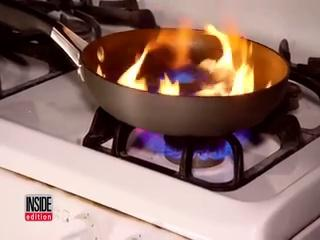Fire: (100, 12, 268, 102)
